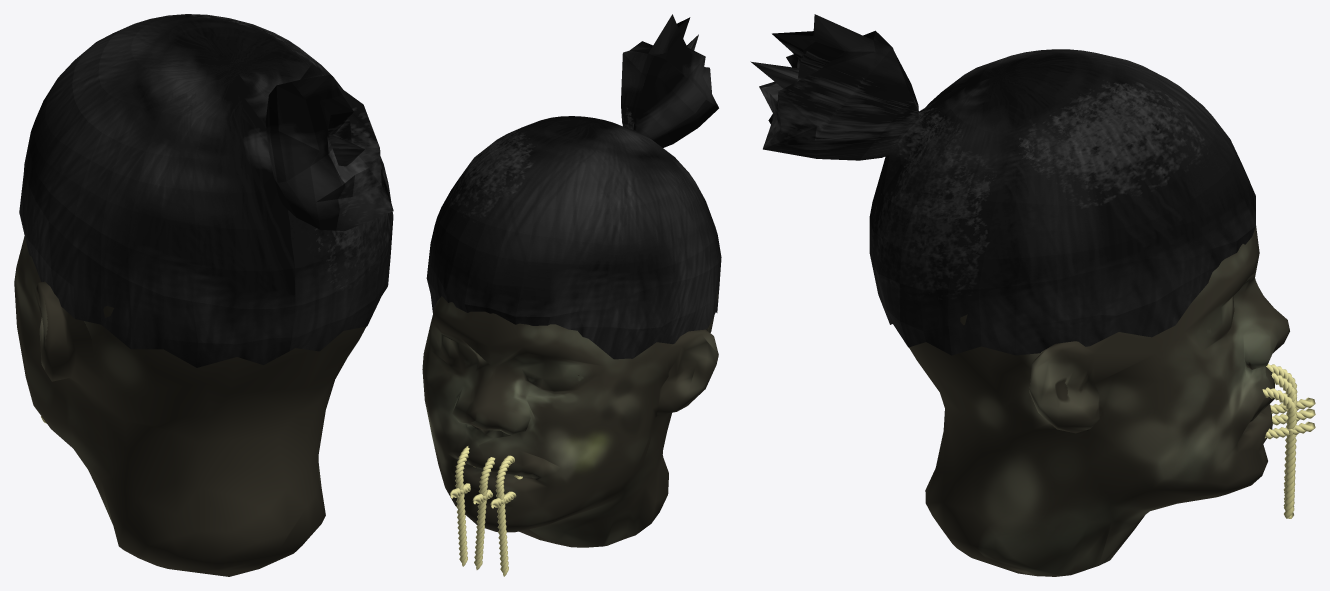
File: tsantsa.glb
The picture shows the model from 3 angles, left to right: view 1: azimuth 30°, elevation 25°; view 2: azimuth 150°, elevation 25°; view 3: azimuth 270°, elevation 25°; orthographic projection. The views are drawn at different scales.
Parts seen in each view (by area): view 1: Sphere, 11091_FemaleHead_v4.001; view 2: Sphere, 11091_FemaleHead_v4.001, Circle, Circle.002, Circle.001; view 3: Sphere, 11091_FemaleHead_v4.001, Circle.002, Circle.001.
Boxes of the visible parts, <box> form: Sphere: <box>19,14,393,367</box>; 11091_FemaleHead_v4.001: <box>14,236,365,576</box>; Sphere: <box>426,14,721,359</box>; 11091_FemaleHead_v4.001: <box>422,291,718,547</box>; Circle: <box>490,455,522,576</box>; Circle.002: <box>450,446,475,566</box>; Circle.001: <box>473,457,495,569</box>; Sphere: <box>750,14,1255,355</box>; 11091_FemaleHead_v4.001: <box>909,226,1289,576</box>; Circle.002: <box>1262,387,1315,518</box>; Circle.001: <box>1271,373,1315,506</box>.
Size of the model in its own units: 12.9 by 20.48 by 19.26.
3 materials, 2 textured.
